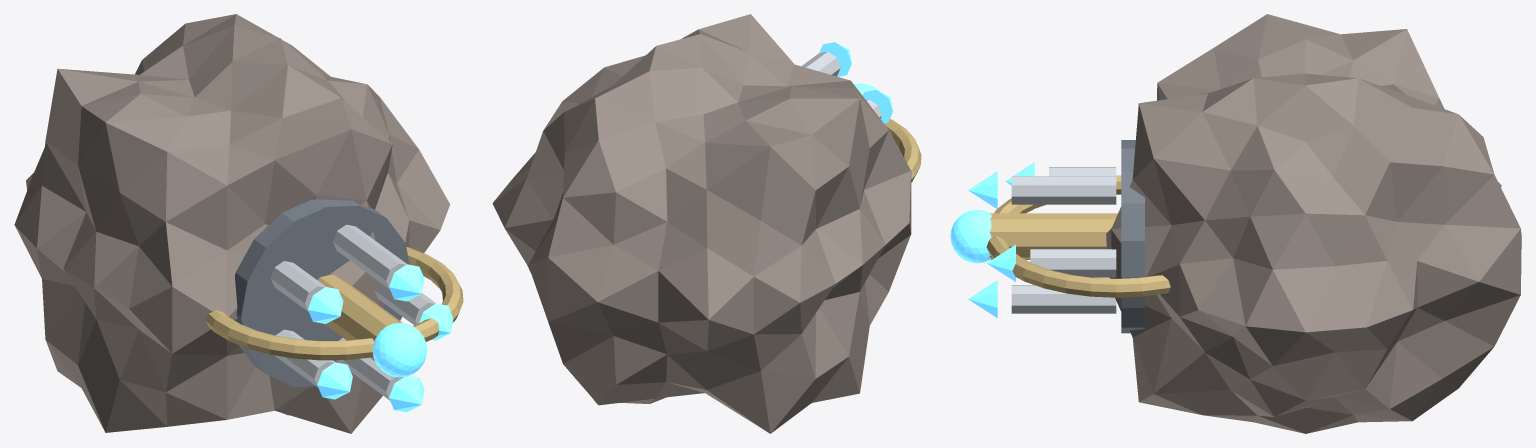
Rendered from citadel_01.glb.
3 views of the same model, side by side, from view 1: azimuth 30°, elevation 25°; view 2: azimuth 150°, elevation 25°; view 3: azimuth 270°, elevation 25° (orthographic). The views are drawn at different scales.
Visible parts, largest first — view 1: asteroid, citadel_deck, orbital_ring, central_spire, core, tower1, tower2, tower4, tower0, spire3, spire1, spire2 (+3 smaller); view 2: asteroid, orbital_ring, tower1, spire1, spire2; view 3: asteroid, central_spire, orbital_ring, citadel_deck, tower1, tower4, tower0, core, tower2, spire1, spire4, spire0.
Part boxes in pixels (x1=…): asteroid: x1=14, y1=14, x2=449, y2=433; citadel_deck: x1=235, y1=199, x2=409, y2=386; orbital_ring: x1=205, y1=247, x2=463, y2=360; central_spire: x1=317, y1=274, x2=402, y2=360; core: x1=373, y1=323, x2=427, y2=377; tower1: x1=333, y1=224, x2=406, y2=289; tower2: x1=270, y1=261, x2=325, y2=311; tower4: x1=336, y1=338, x2=403, y2=400; tower0: x1=374, y1=280, x2=436, y2=325; spire3: x1=317, y1=362, x2=352, y2=399; spire1: x1=389, y1=264, x2=424, y2=301; spire2: x1=308, y1=287, x2=343, y2=323; asteroid: x1=492, y1=14, x2=911, y2=433; orbital_ring: x1=884, y1=119, x2=921, y2=182; tower1: x1=801, y1=51, x2=840, y2=76; spire1: x1=819, y1=42, x2=851, y2=76; spire2: x1=862, y1=90, x2=892, y2=123; asteroid: x1=1106, y1=14, x2=1521, y2=433; central_spire: x1=989, y1=213, x2=1117, y2=259; orbital_ring: x1=986, y1=175, x2=1170, y2=297; citadel_deck: x1=1121, y1=140, x2=1144, y2=333; tower1: x1=1011, y1=176, x2=1116, y2=204; tower4: x1=1011, y1=285, x2=1116, y2=313; tower0: x1=1030, y1=249, x2=1116, y2=277; core: x1=950, y1=210, x2=991, y2=263; tower2: x1=1049, y1=167, x2=1116, y2=176; spire1: x1=968, y1=171, x2=997, y2=209; spire4: x1=968, y1=280, x2=997, y2=317; spire0: x1=986, y1=244, x2=1015, y2=281.
Bounding box in the file's own units: 4.97 × 4.57 × 6.78.
